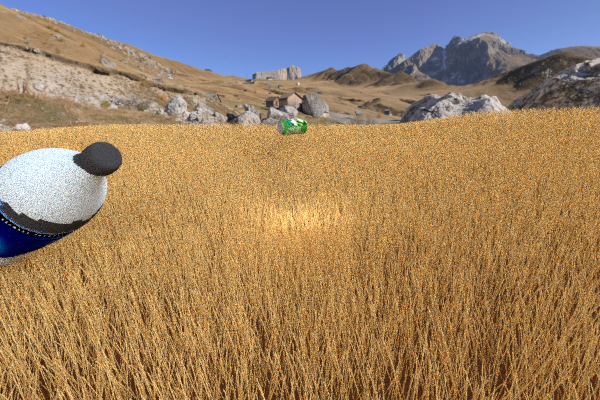Plastic Bottle: (0, 141, 122, 272), (276, 118, 307, 135)
